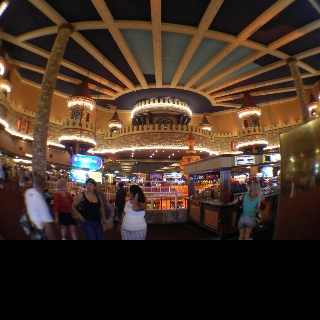without_mask: (86, 181, 94, 192), (127, 188, 132, 197)
